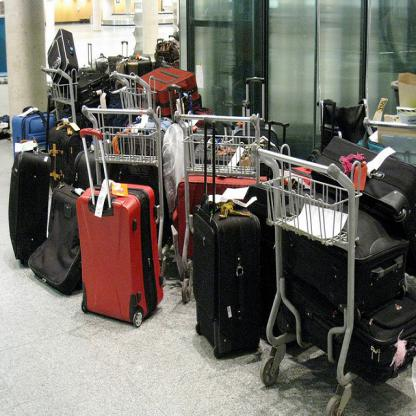handbag: (163, 123, 185, 214)
suitcase: (41, 38, 289, 340), (76, 127, 167, 329), (279, 277, 416, 386), (283, 210, 411, 313), (191, 195, 261, 359), (310, 136, 416, 235), (8, 81, 54, 267), (171, 172, 256, 258), (27, 181, 85, 297), (139, 65, 201, 117), (12, 107, 54, 152), (44, 29, 78, 73), (76, 67, 112, 107), (124, 60, 154, 77)
